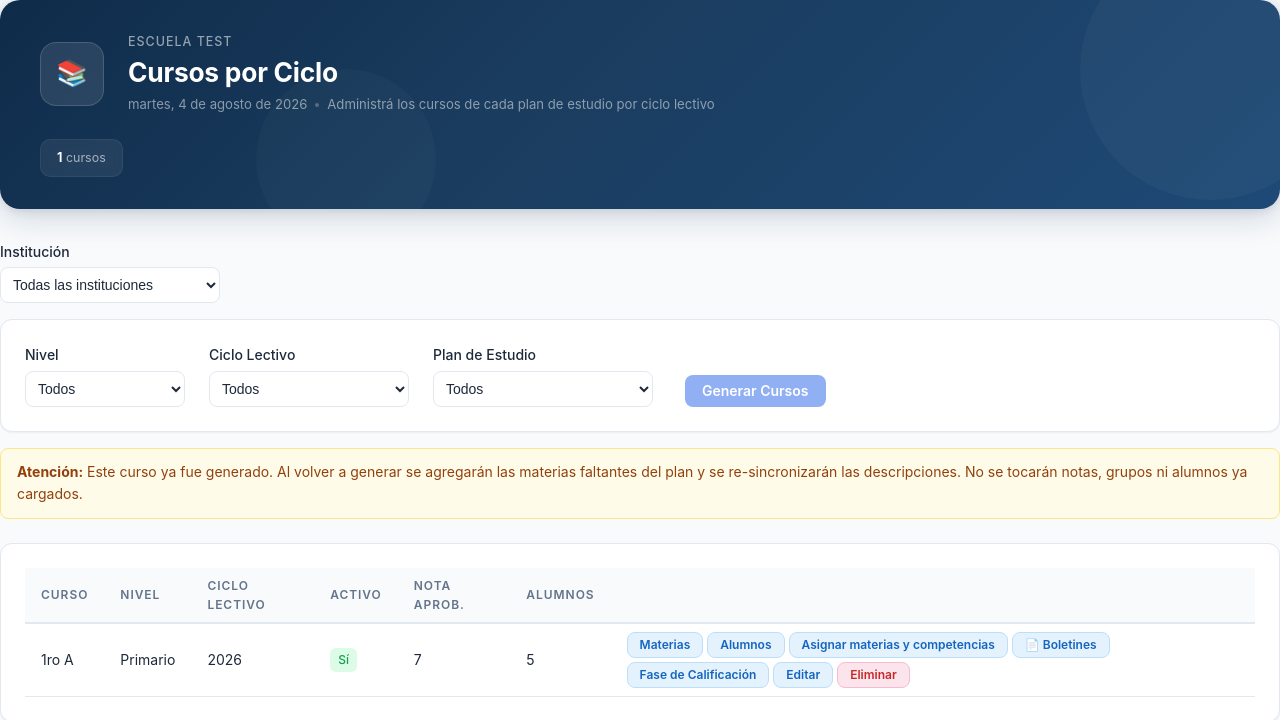
it: CourseCyclesPage › Bulk cascade button › W-19: clicking the button opens a confirmation dialog
This screenshot has width=1280, height=720.
Click the button with test id "btn-bulk-cascade-cc-bulk-1": (898, 645) [788, 632, 1008, 658]
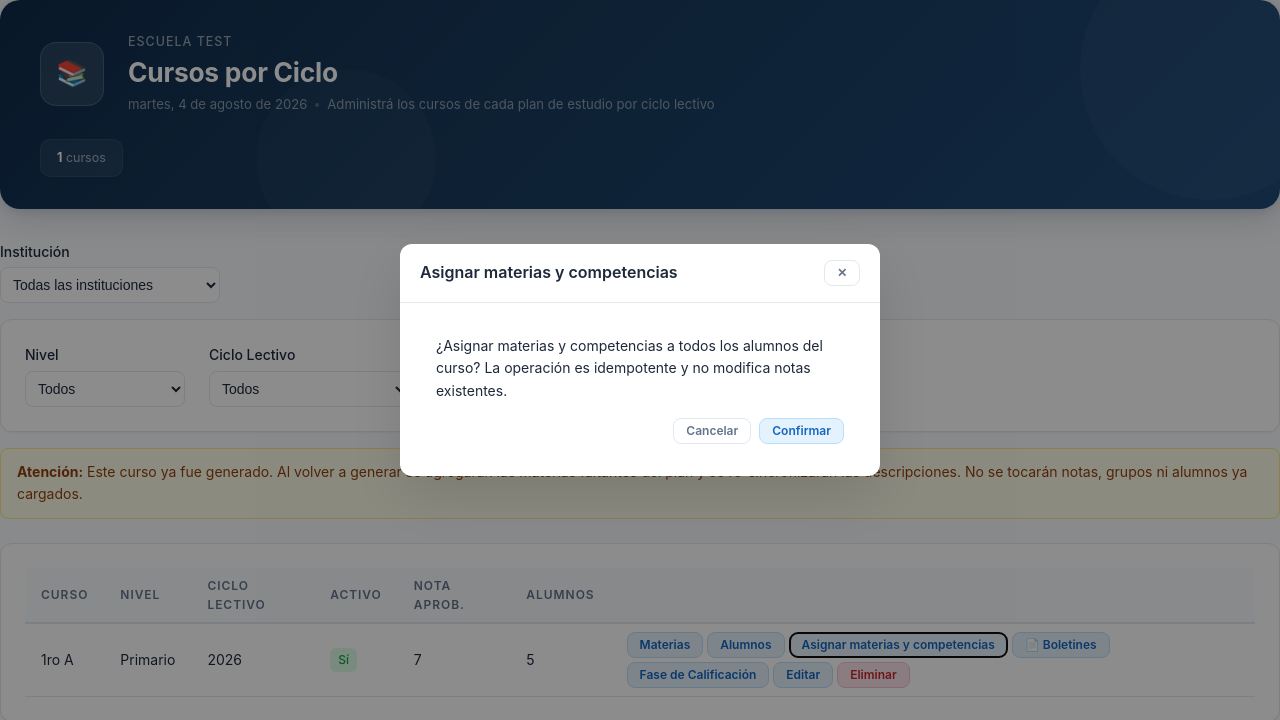
Now the button with test id "btn-confirm-bulk-cascade" is shown, box [759, 418, 844, 444]
